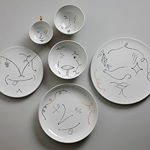cups: (27, 15, 55, 46)
